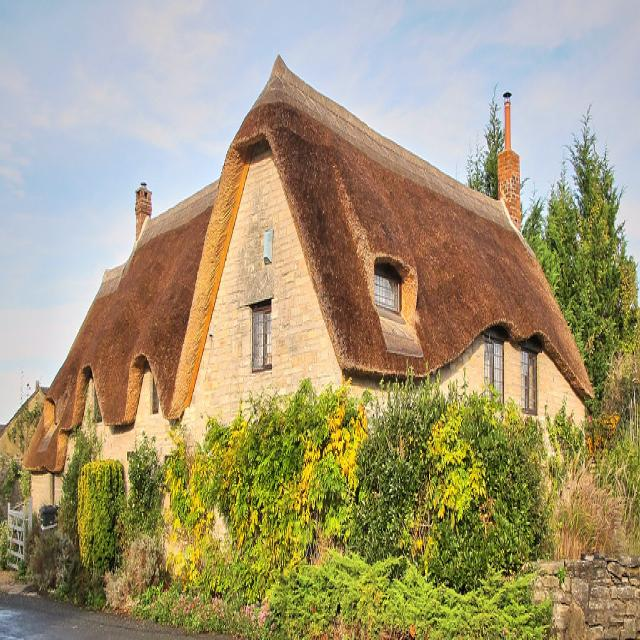building: (26, 46, 592, 594)
